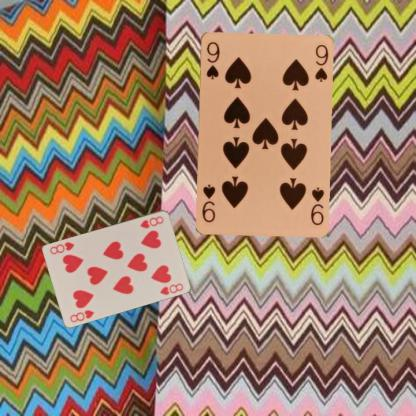8h: (68, 306, 95, 324), (138, 214, 164, 230)
9s: (203, 39, 221, 80), (308, 184, 325, 226)
